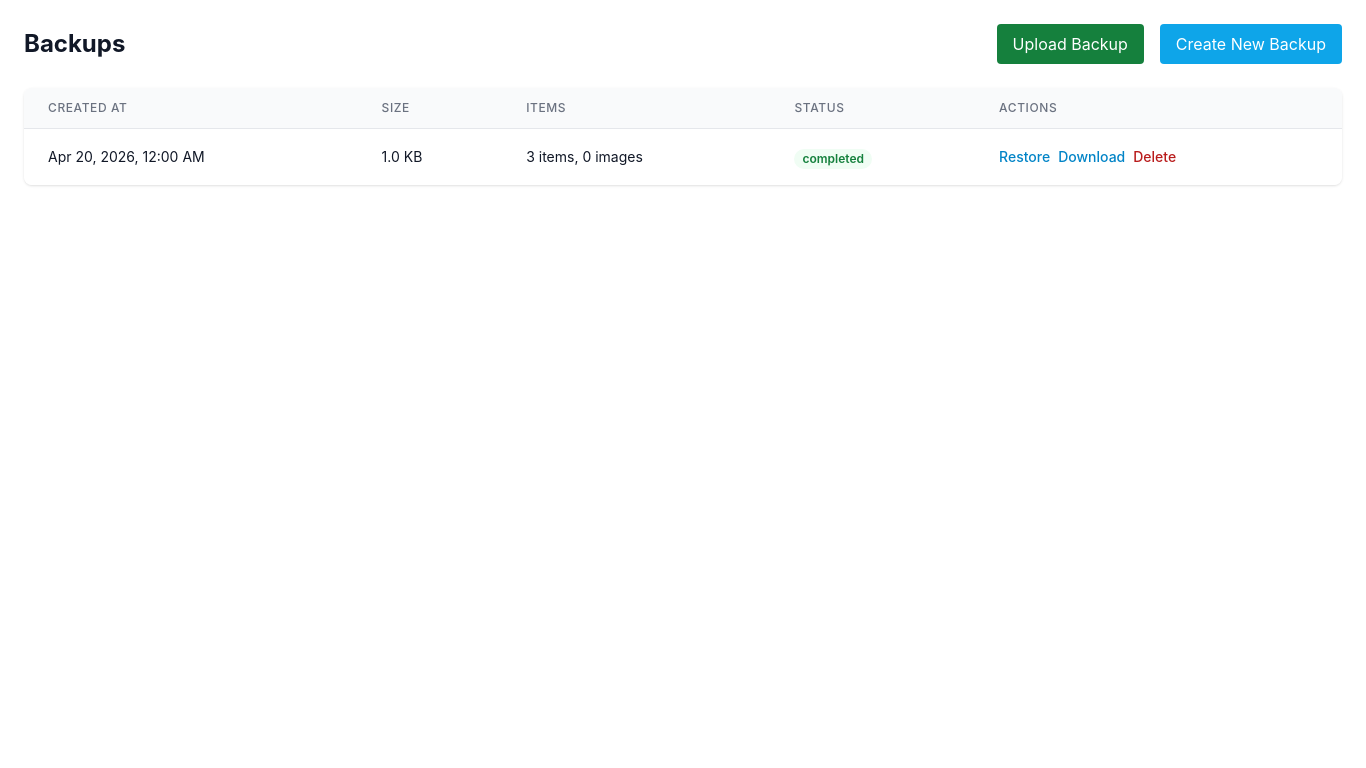
Backups two-phase restore › rejects a wrong-count confirmation client-side
Click the button "Restore": (1025, 157) [999, 147, 1050, 167]
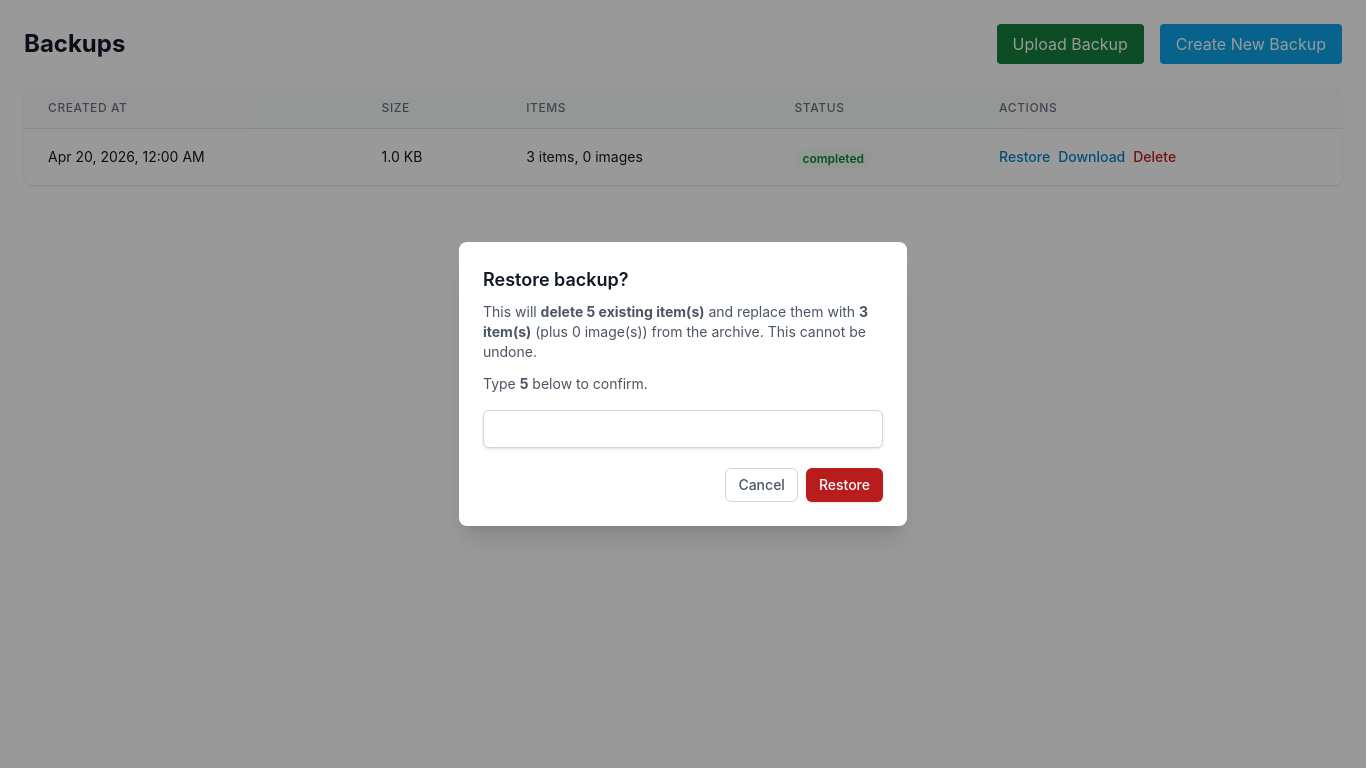
Expected: the dialog is shown
In the number field named "confirm item count": (683, 429) [483, 410, 883, 448], type "3"
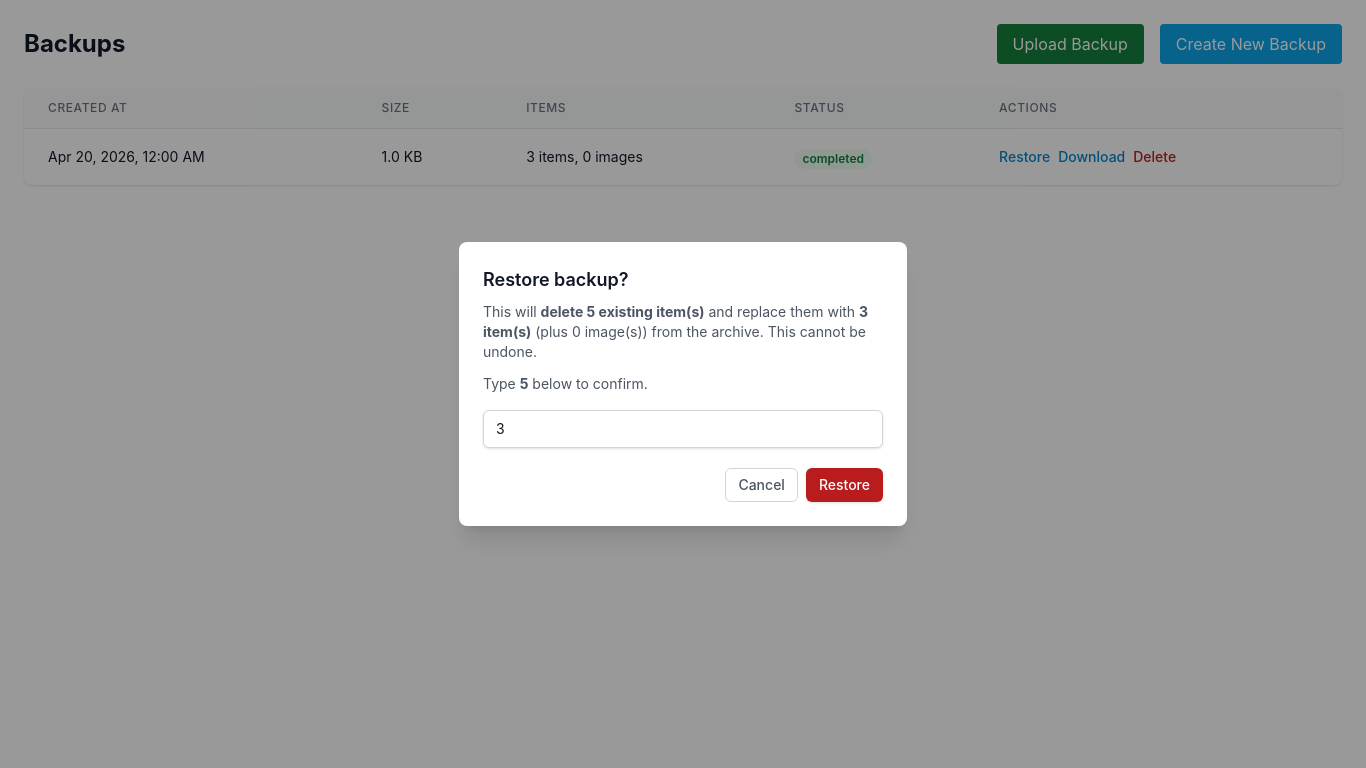
Click the button "Restore": (844, 485) [806, 468, 883, 502]
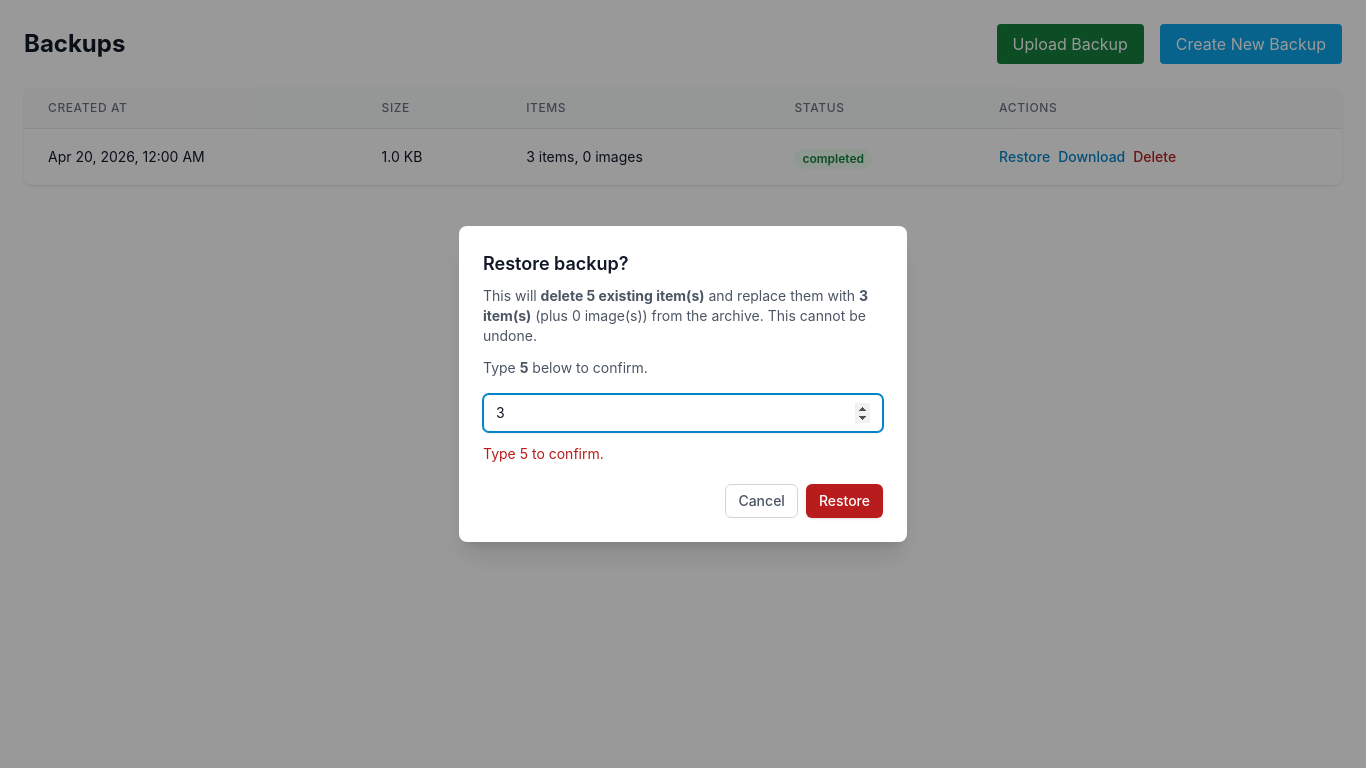
Expected: the text "Type 5 to confirm." is shown, [483, 445, 604, 462]
